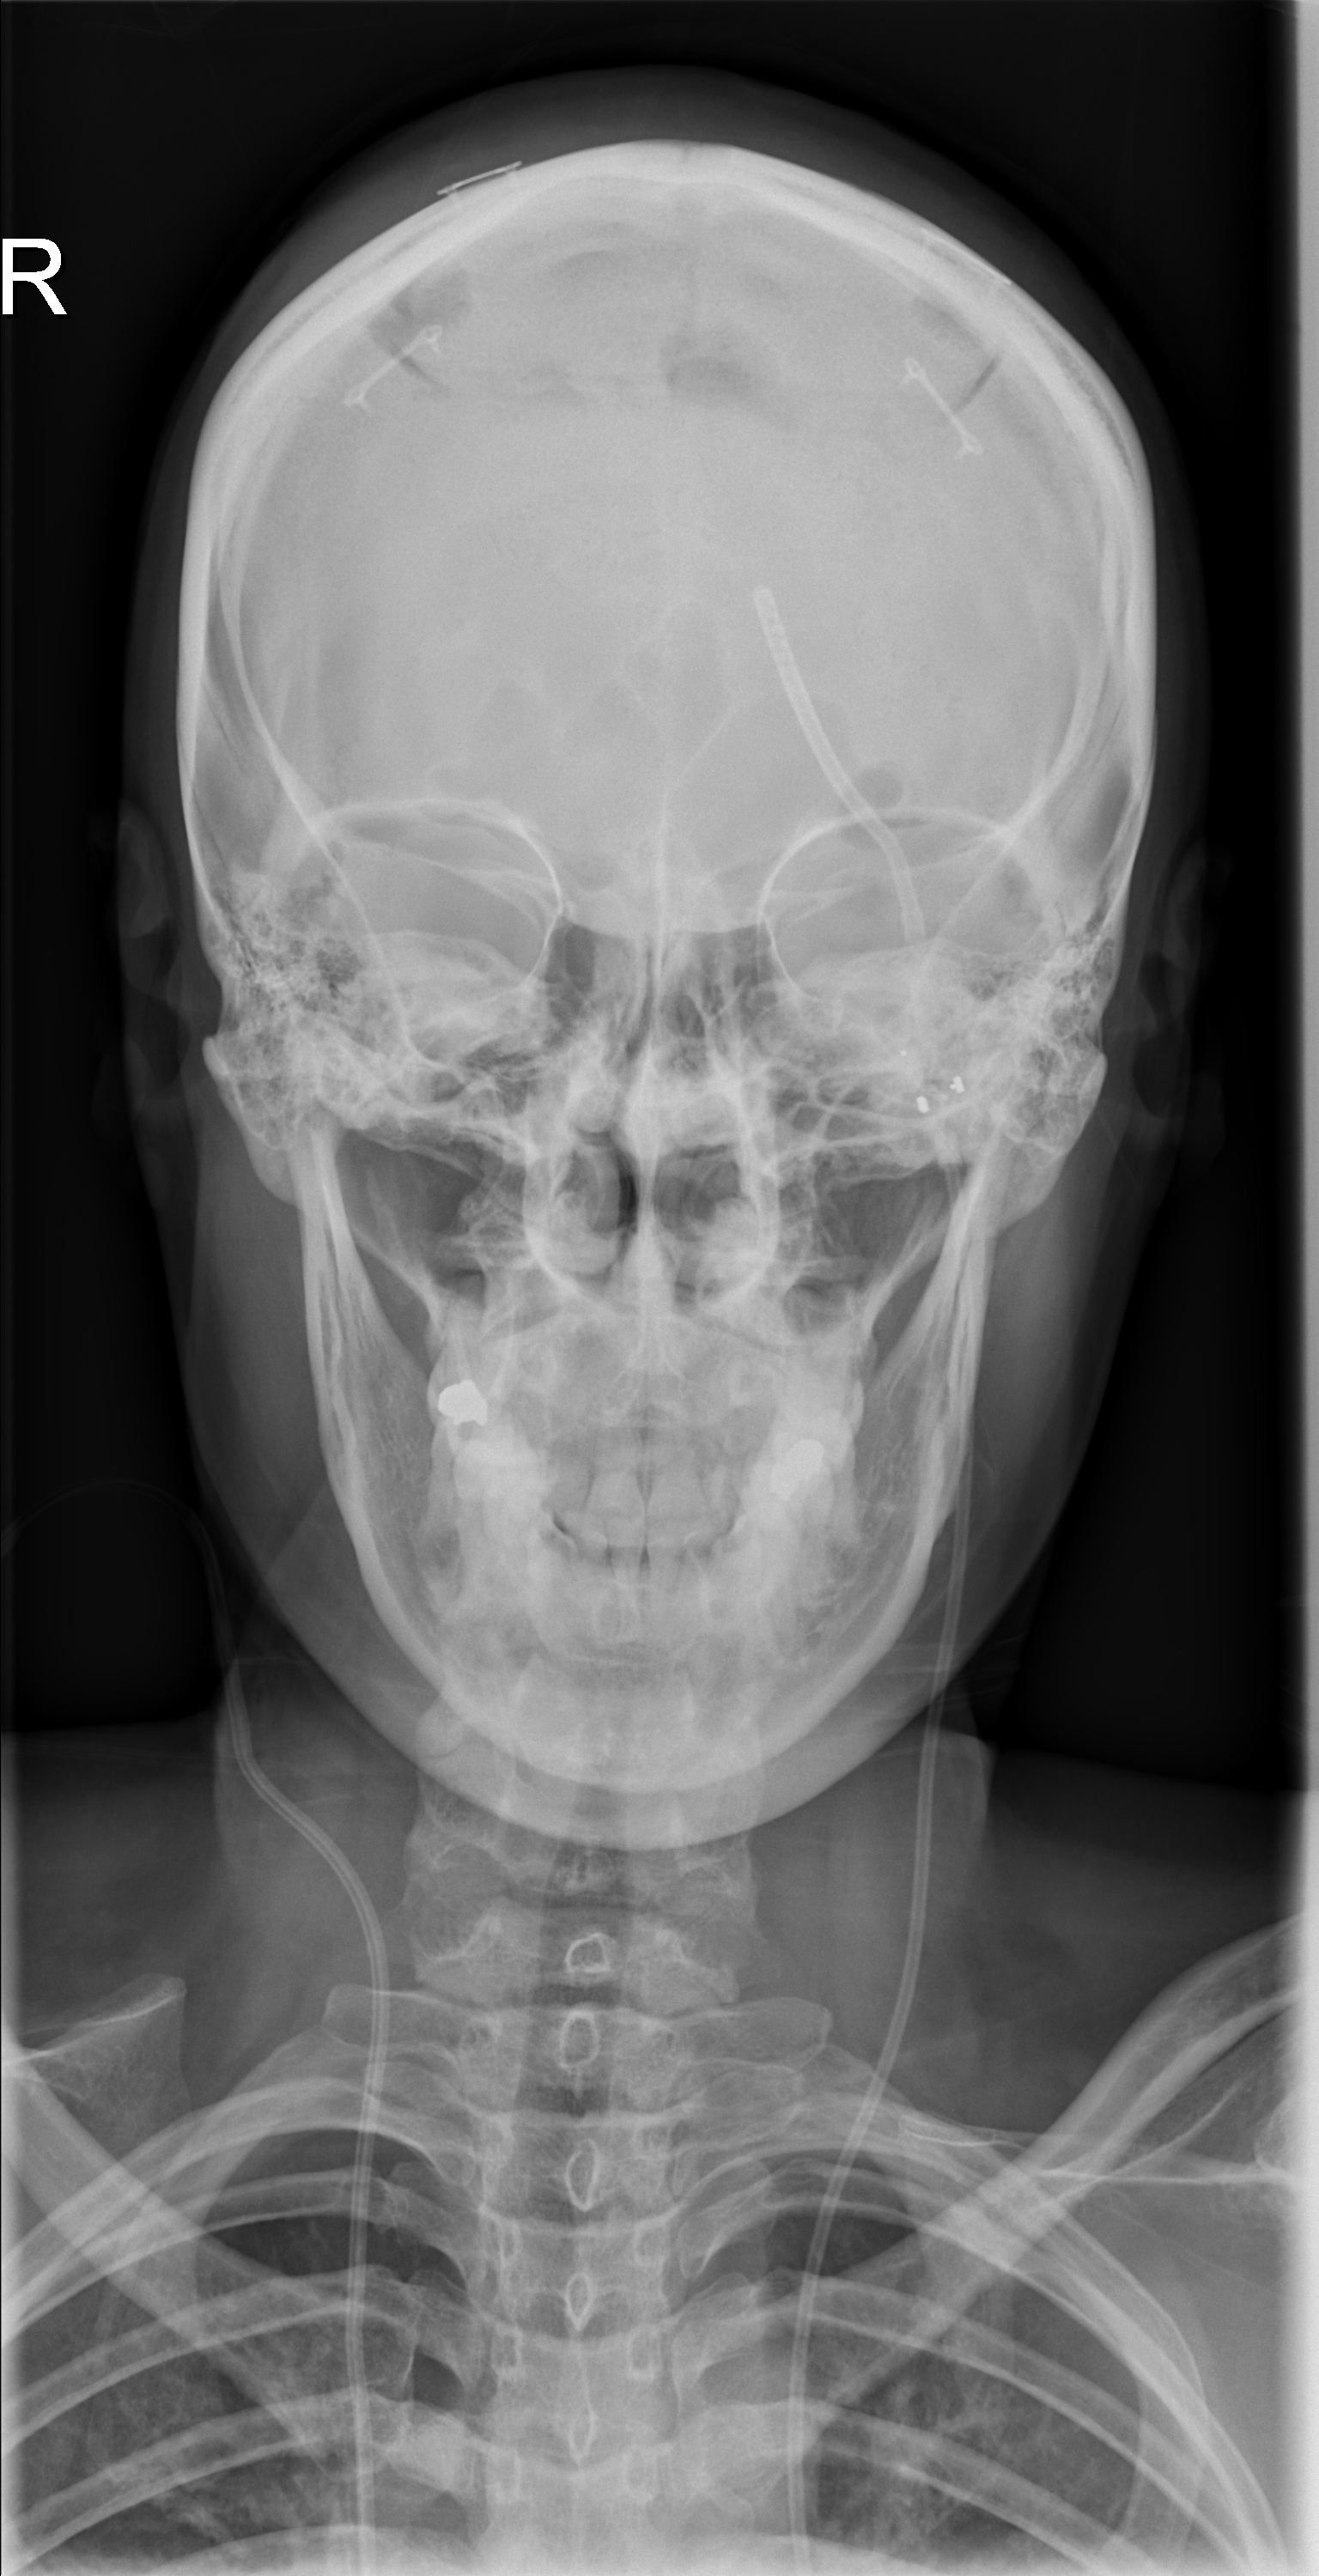Codman Certas: (895, 1034, 983, 1133)
